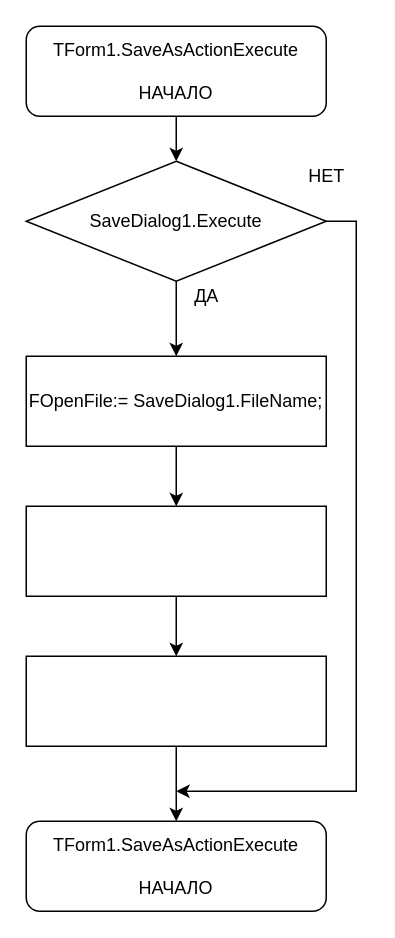
Some shapes in this 395 by 938 pixel diagram are drawn without their labels. The shapes that lost their labels are listed below. From the top down, each one's centre as x and y in pixels, then its label:
At point 175,550: "Memo1.Lines.savetofile(FOpenFile);".
At point 175,700: "Memo1.Modified:= False;".
